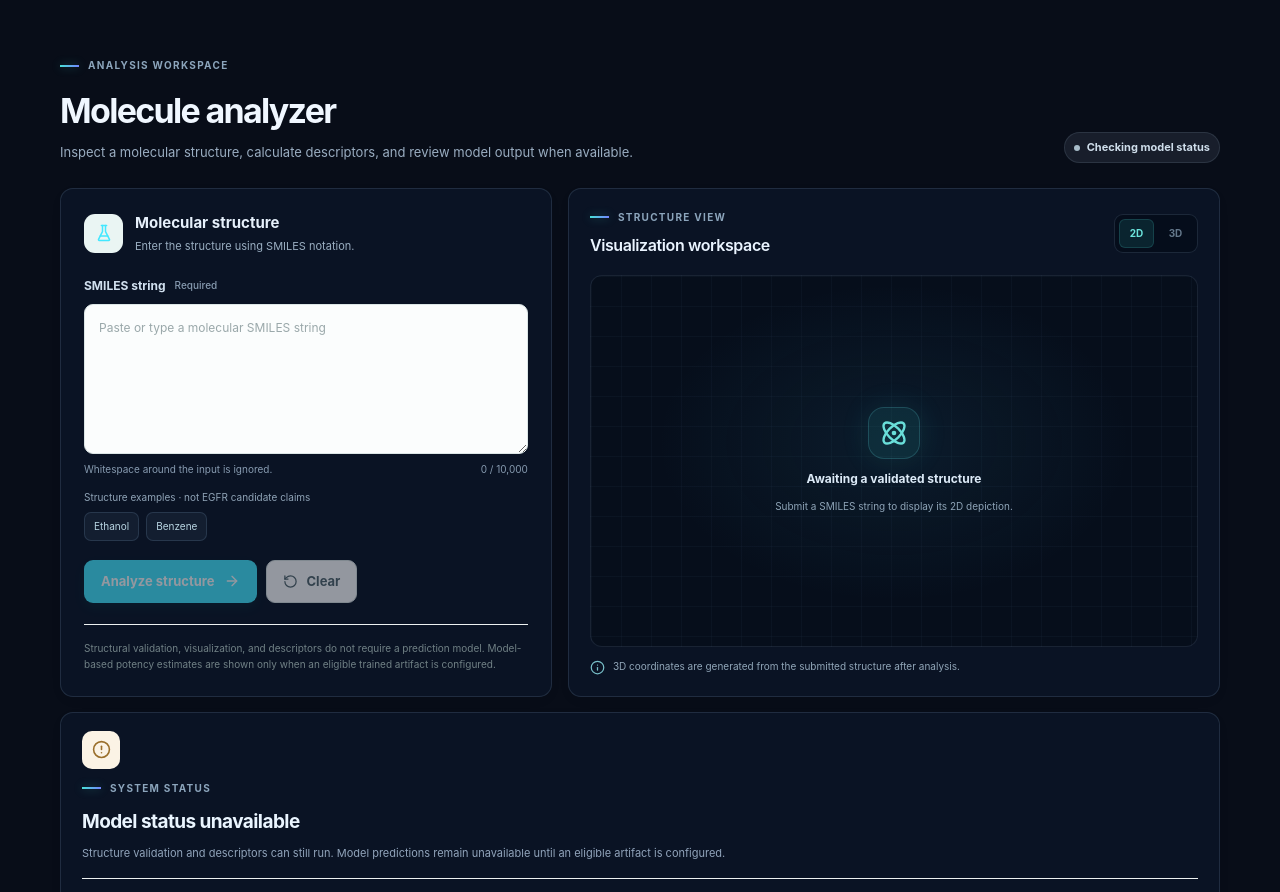
Test case: AnalyzerPage › shows model provenance, held-out metrics, and uncertainty with a real prediction response
The width and height of the screenshot is (1280, 892).
Type "CCO" into the text box labelled "SMILES string Required".
click(306, 379); type("CCO")  # box 84,304 -> 528,454
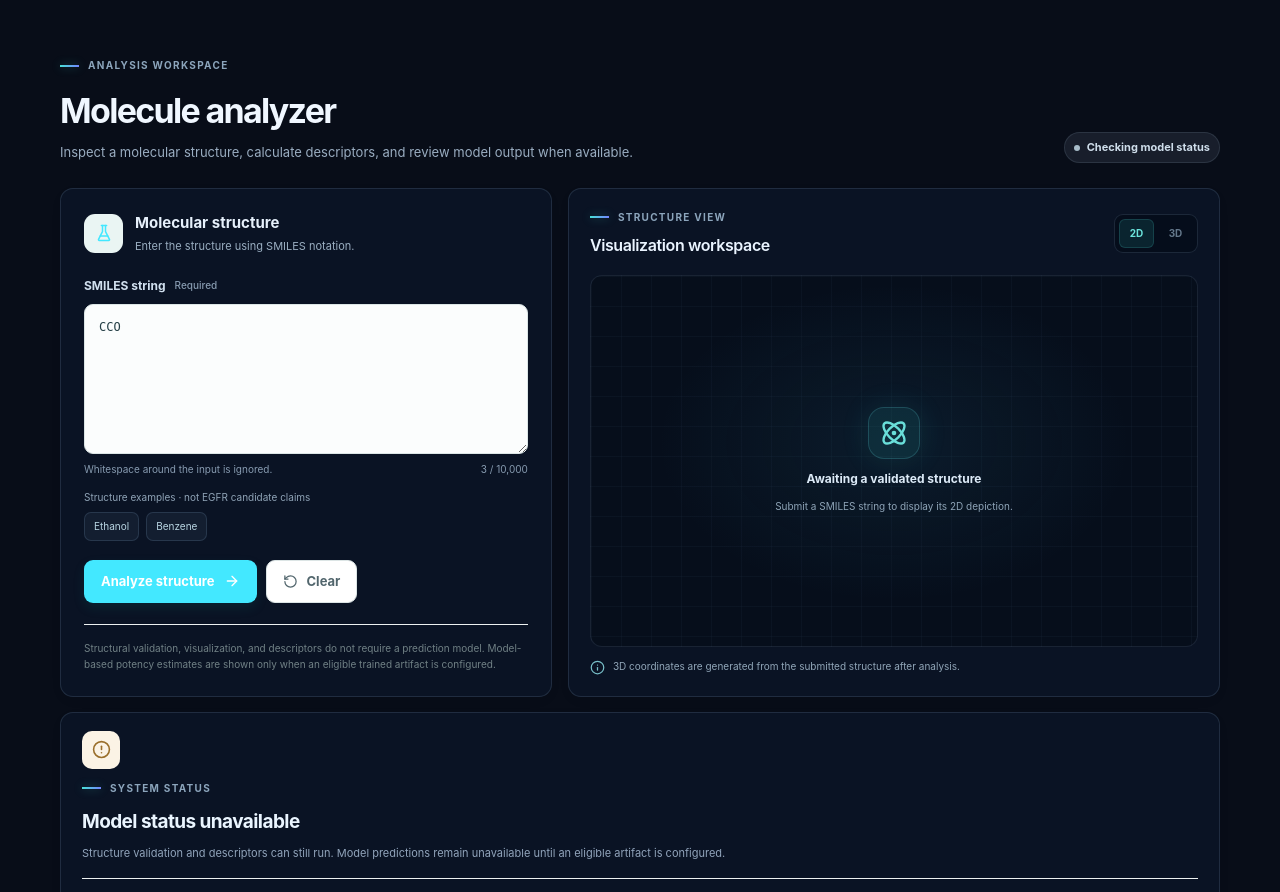
Click the button "Analyze structure".
click(170, 581)  # box 84,560 -> 256,603
(page scrolled)
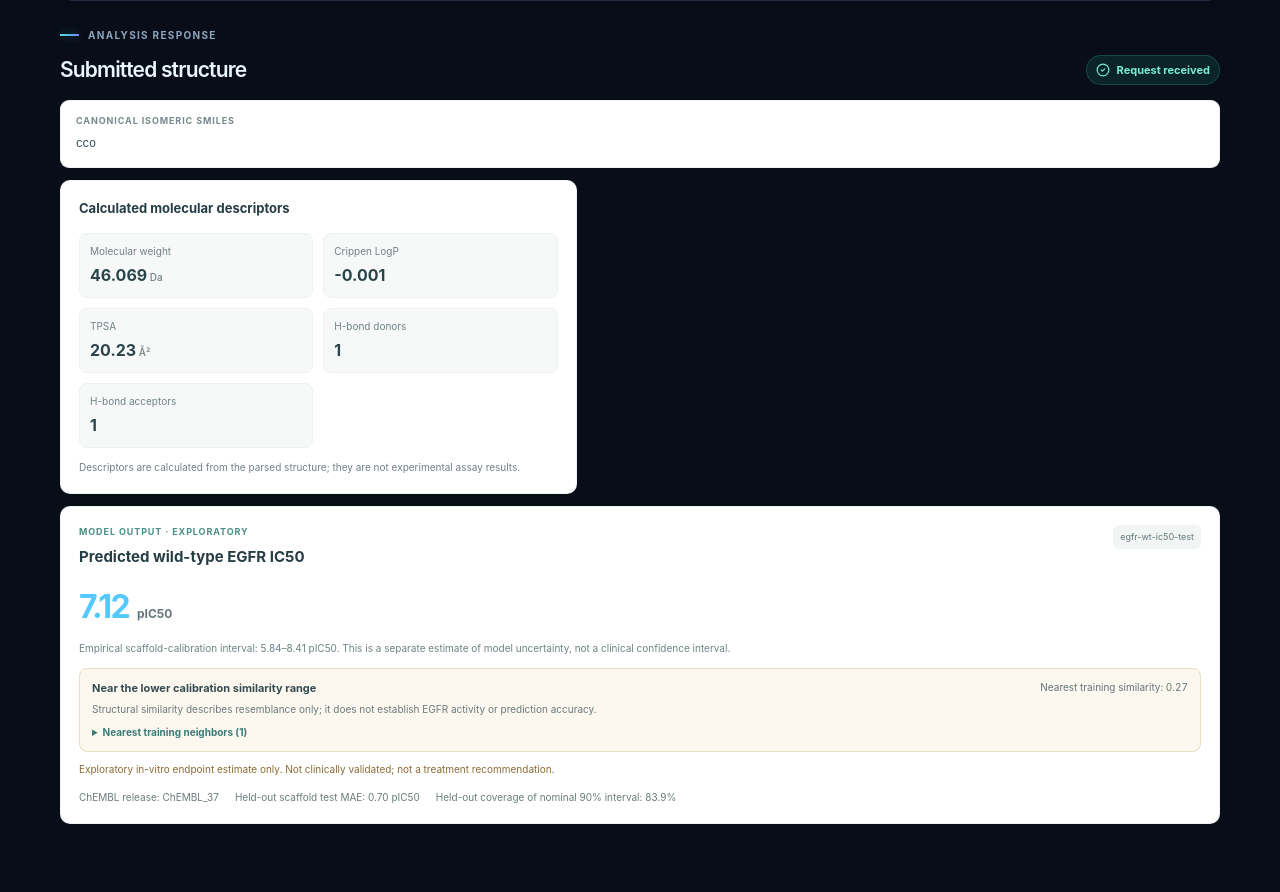
Expected: the heading "Predicted wild-type EGFR IC50" is shown, 79,546 -> 304,568
Expected: the text "ChEMBL release: ChEMBL_37" is shown, 79,790 -> 219,805
Expected: the text "Held-out scaffold test MAE: 0.70 pIC50" is shown, 235,790 -> 420,805
Click the heading "Nearest training neighbors (1)".
click(170, 732)  # box 92,725 -> 247,740
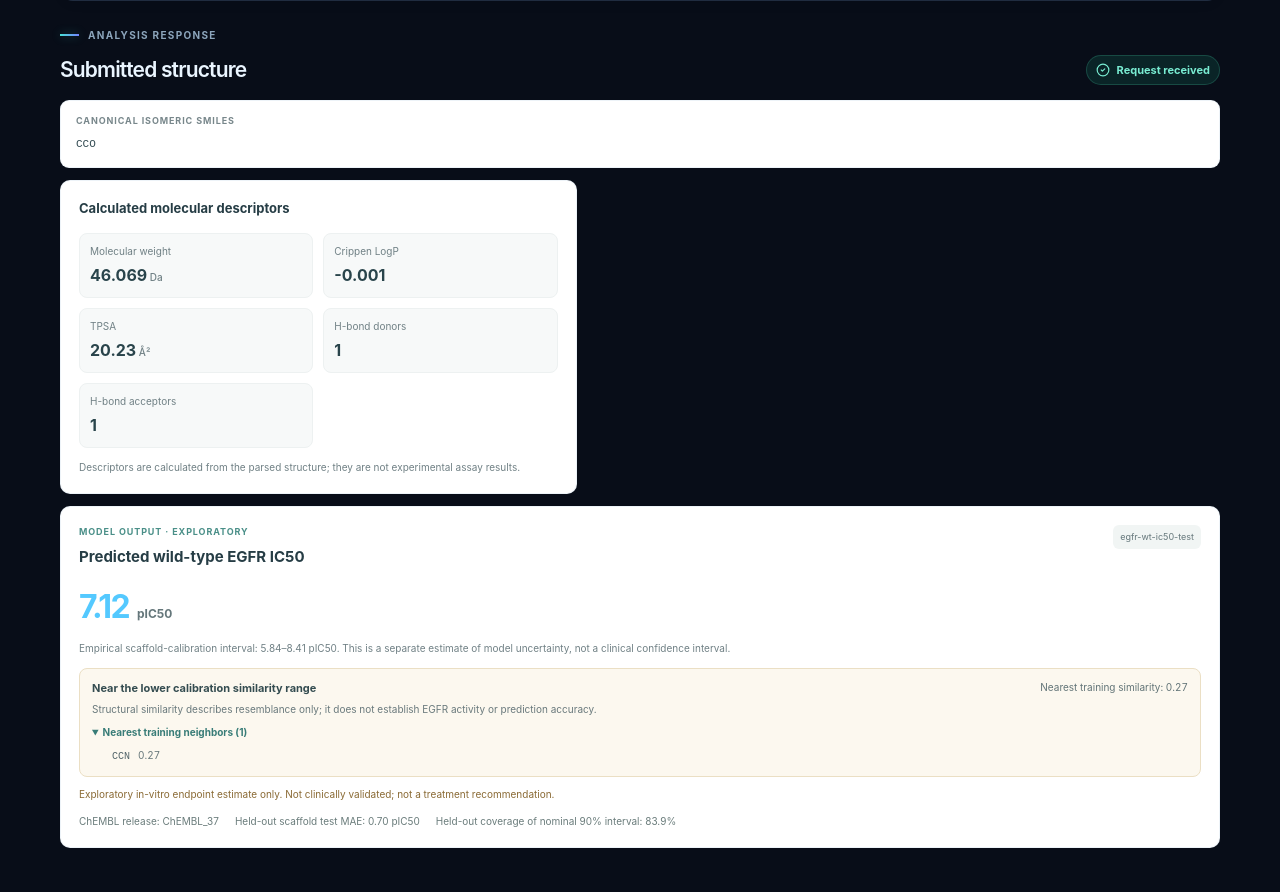
Expected: the text "CCN" is shown, 112,751 -> 130,762
